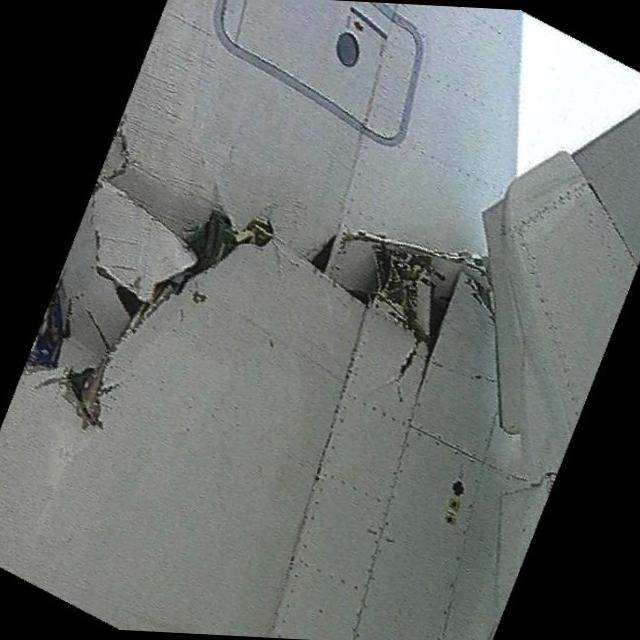crack: (32, 110, 540, 456)
